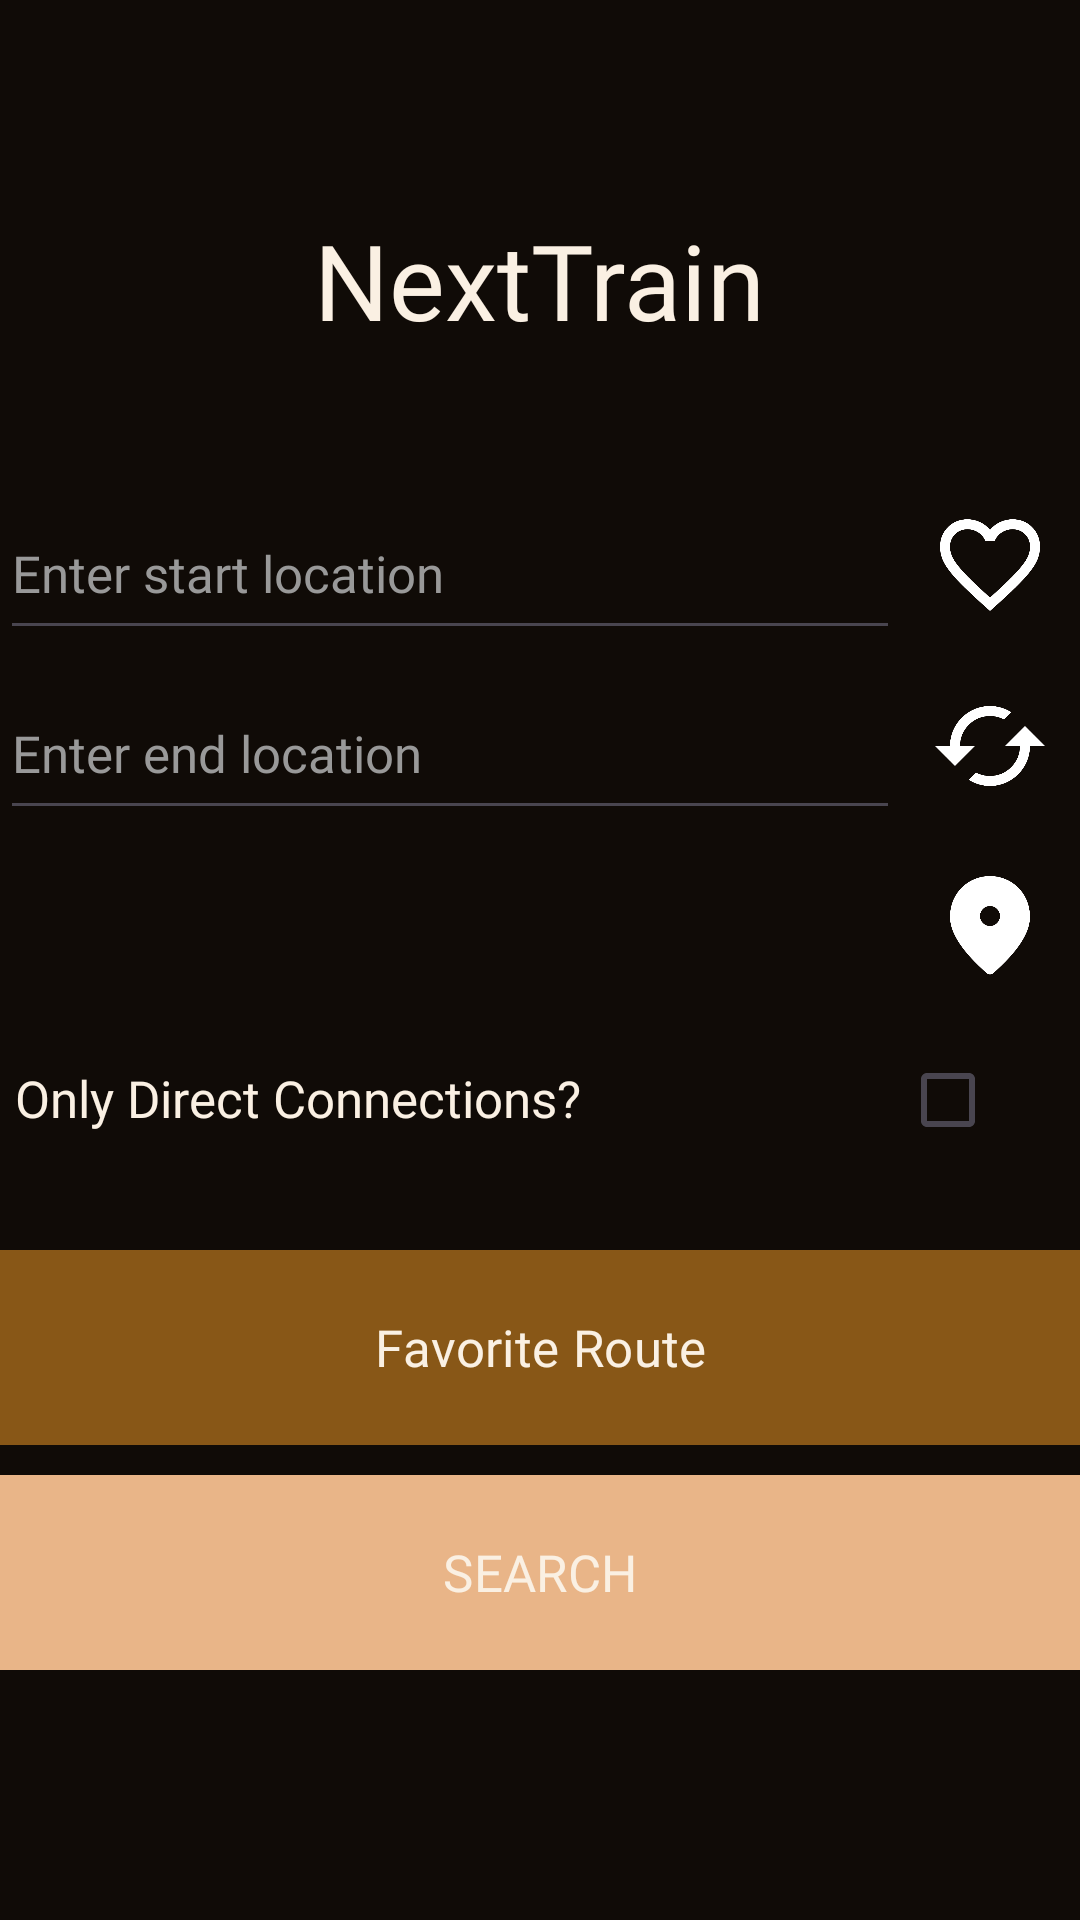

Icons on this 1080 × 1920 Android screen, each with its box as (x1, y1, x2, y2):
Favorite Route Icon: (940, 519, 1040, 611)
Replace Directions: (935, 706, 1045, 786)
